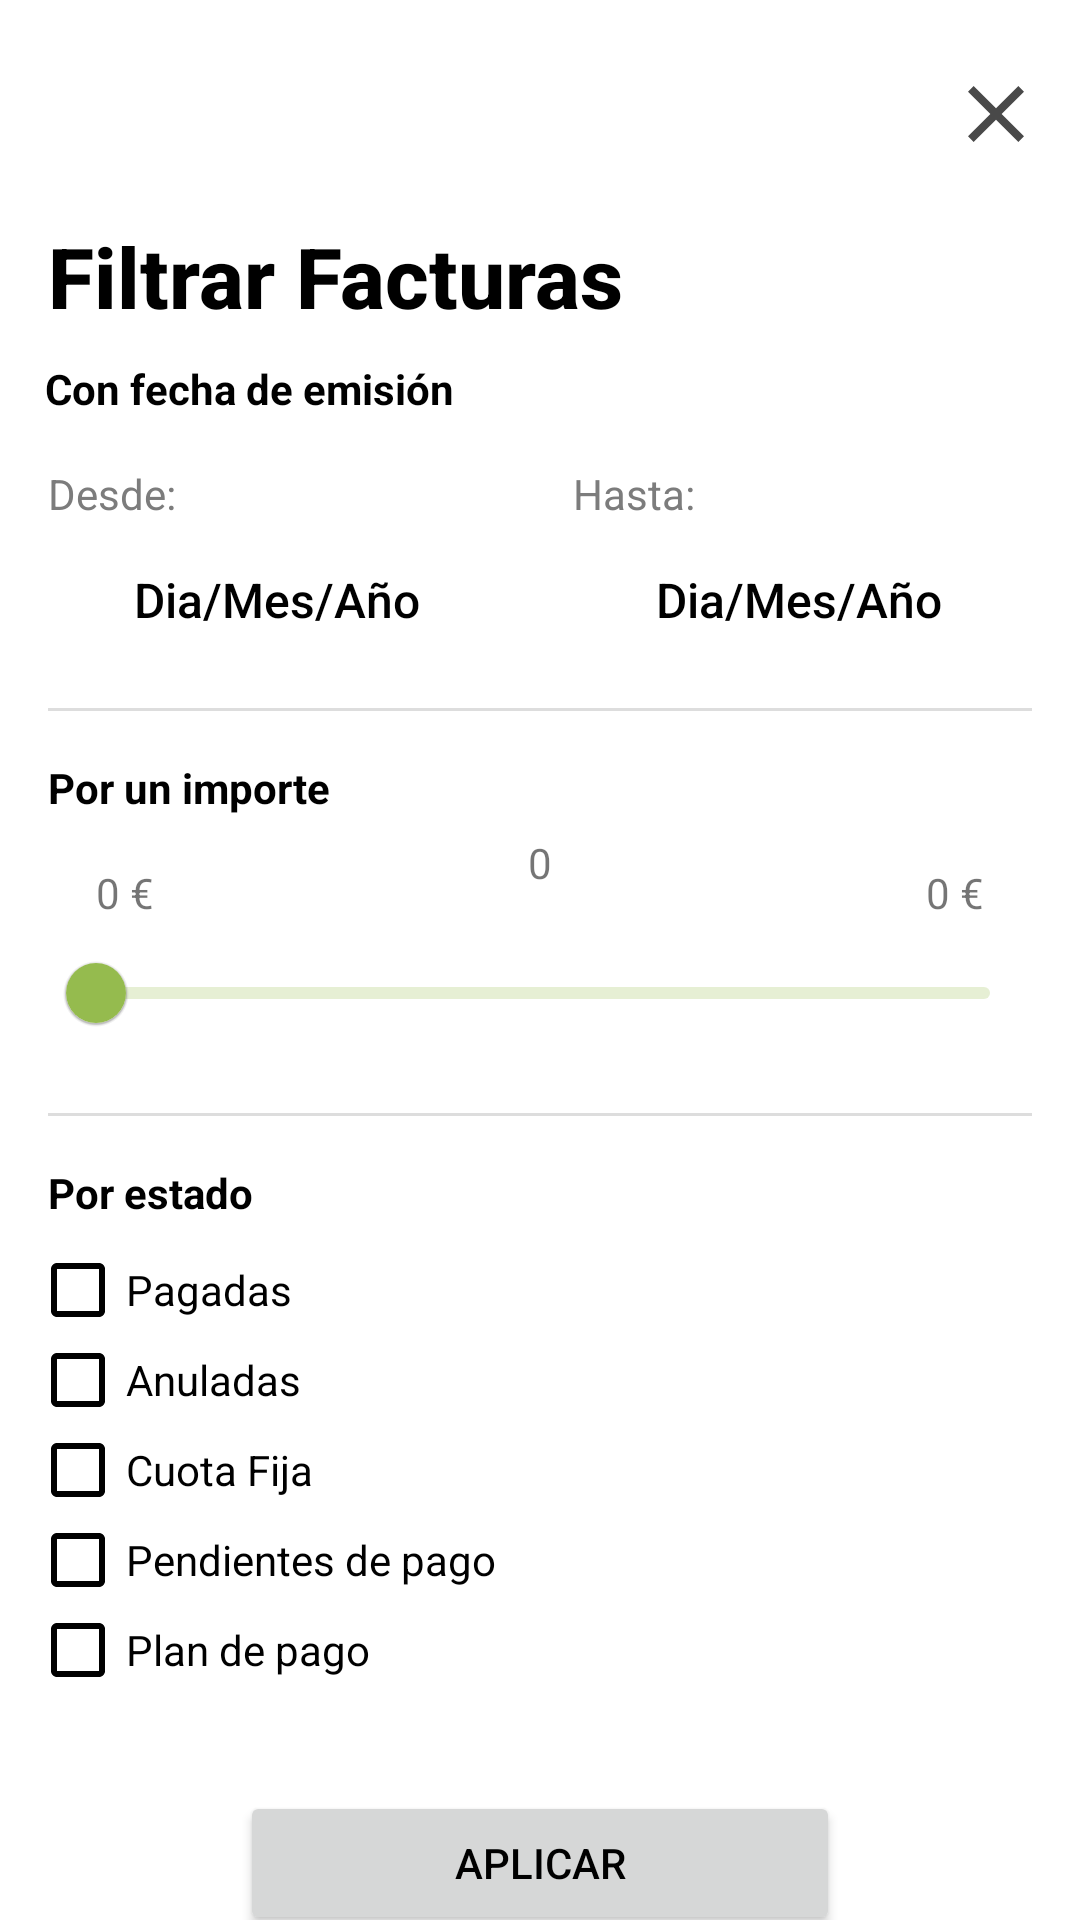

Icons on this 1080×1920 Android screen, each with the point to tap as (x=x, y=y):
close: (x=996, y=114)
